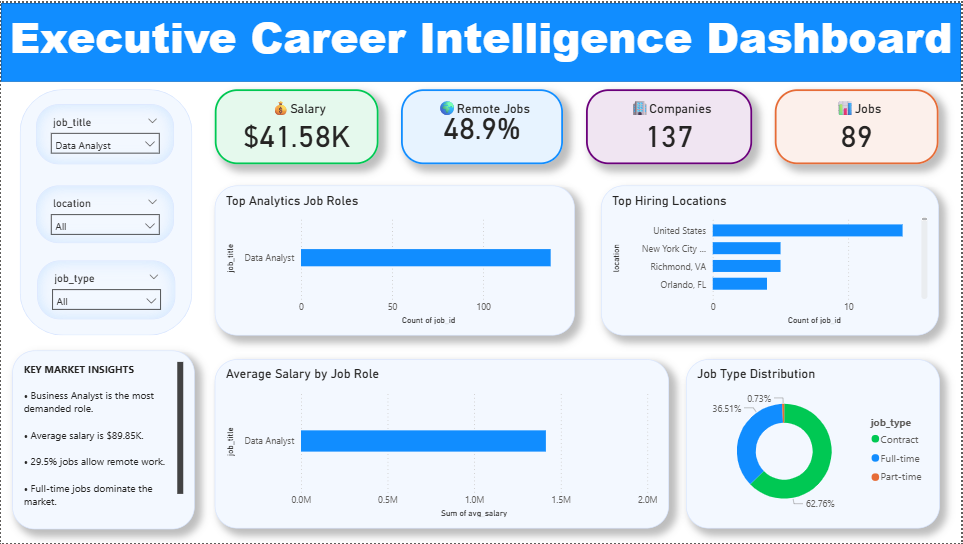

Layout of this report page (visuals, bound fields, positions):
{"tool":"powerbi","page":{"name":"Career Intelligence","canvas":[1280,720],"ordinal":0},"visuals":[{"type":"shape","box":[25,115,230,328.3],"z":500},{"type":"card","title":"🏢Companies","fields":{"Values":["CountNonNull(cleaned_jobs_with_skills.job_id)"]},"box":[779.5,115.7,221.4,100],"z":1000},{"type":"card","title":"📊Jobs","fields":{"Values":["Count(cleaned_jobs_with_skills.company)"]},"box":[1031.4,115.7,218.6,100],"z":2000},{"type":"card","title":"💰Salary","fields":{"Values":["Avg(cleaned_jobs_with_skills.avg_salary)"]},"box":[284.3,115.7,218.6,100],"z":3000},{"type":"clusteredBarChart","title":"Top Analytics Job Roles","fields":{"Category":["cleaned_jobs_with_skills.job_title"],"Y":["CountNonNull(cleaned_jobs_with_skills.job_id)"]},"box":[284.3,242.9,480,200],"z":4000},{"type":"clusteredBarChart","title":"Top Hiring Locations","fields":{"Category":["cleaned_jobs_with_skills.location"],"Y":["CountNonNull(cleaned_jobs_with_skills.job_id)"]},"box":[800,242.9,450,200],"z":5000},{"type":"donutChart","title":"Job Type Distribution","fields":{"Y":["Sum(cleaned_jobs_with_skills.job_id)"],"Category":["cleaned_jobs_with_skills.job_type"]},"box":[912.9,474.3,338.6,225.7],"z":6000},{"type":"card","title":"🌍Remote Jobs","fields":{"Values":["cleaned_jobs_with_skills.Remote Job %"]},"box":[533.3,115.7,215.7,100],"z":7000},{"type":"shape","box":[0,0,1280,105],"z":8000},{"type":"textbox","box":[0,0,1280,105],"z":9000},{"type":"clusteredBarChart","title":"Average Salary by Job Role","fields":{"Y":["Sum(cleaned_jobs_with_skills.avg_salary)"],"Category":["cleaned_jobs_with_skills.job_title"]},"box":[284.3,475.7,605.7,225.7],"z":13000},{"type":"textbox","box":[15.7,462.9,242.9,238.6],"z":14000},{"type":"slicer","fields":{"Values":["cleaned_jobs_with_skills.job_title"]},"box":[47.1,135.7,184.3,80],"z":14500},{"type":"slicer","fields":{"Values":["cleaned_jobs_with_skills.location"]},"box":[47.1,242.9,184.3,77.1],"z":15000},{"type":"slicer","fields":{"Values":["cleaned_jobs_with_skills.job_type"]},"box":[48.6,342.9,184.3,78.6],"z":15500}]}

Visuals, with their boxes in screenshot pixels (x1, y1, x2, y2), scaled from the page's 1280x720 canvas onto the 963x544 screenshot:
shape: 19/87/192/335
"🏢Companies" card: 586/87/753/163
"📊Jobs" card: 776/87/940/163
"💰Salary" card: 214/87/378/163
"Top Analytics Job Roles" clusteredBarChart: 214/184/575/335
"Top Hiring Locations" clusteredBarChart: 602/184/940/335
"Job Type Distribution" donutChart: 687/358/942/529
"🌍Remote Jobs" card: 401/87/564/163
shape: 0/0/962/79
textbox: 0/0/962/79
"Average Salary by Job Role" clusteredBarChart: 214/359/670/530
textbox: 12/350/195/530
slicer - cleaned_jobs_with_skills.job_title: 35/103/174/163
slicer - cleaned_jobs_with_skills.location: 35/184/174/242
slicer - cleaned_jobs_with_skills.job_type: 37/259/175/318
